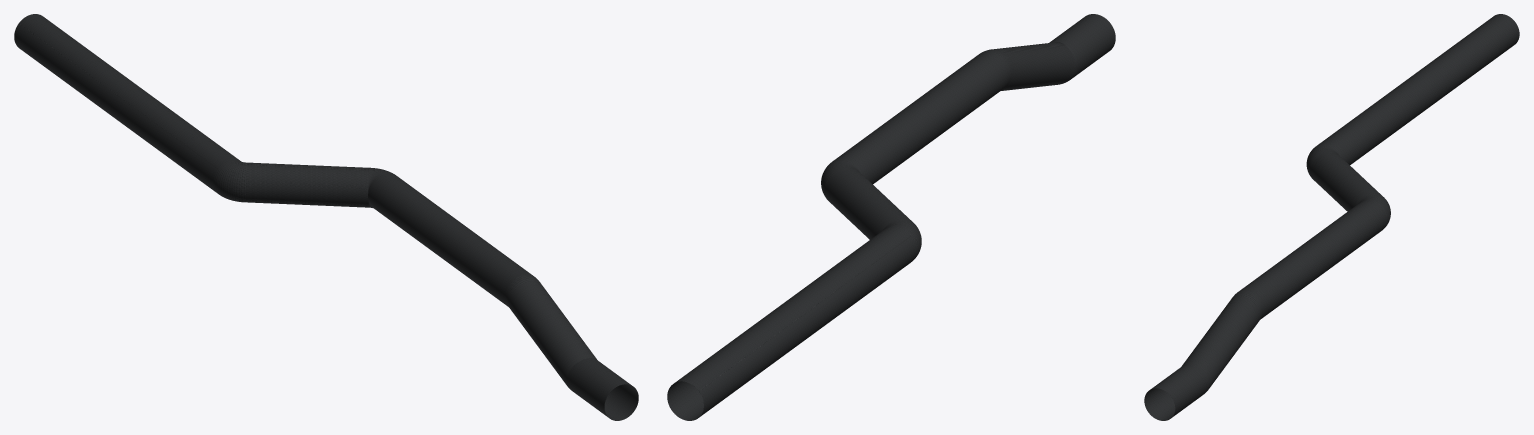
Rendered from pipe.fbx.
3 views of the same model, side by side, from view 1: azimuth 30°, elevation 25°; view 2: azimuth 150°, elevation 25°; view 3: azimuth 330°, elevation 25° (orthographic). The views are drawn at different scales.
Parts seen in each view (by area): view 1: Cylinder.002; view 2: Cylinder.002; view 3: Cylinder.002.
Boxes of the visible parts, x1,y1,x2,y2 form: Cylinder.002: (14, 14, 638, 420); Cylinder.002: (667, 14, 1115, 420); Cylinder.002: (1144, 14, 1519, 420).
Bounding box in the file's own units: 46.75 × 24.11 × 290.
